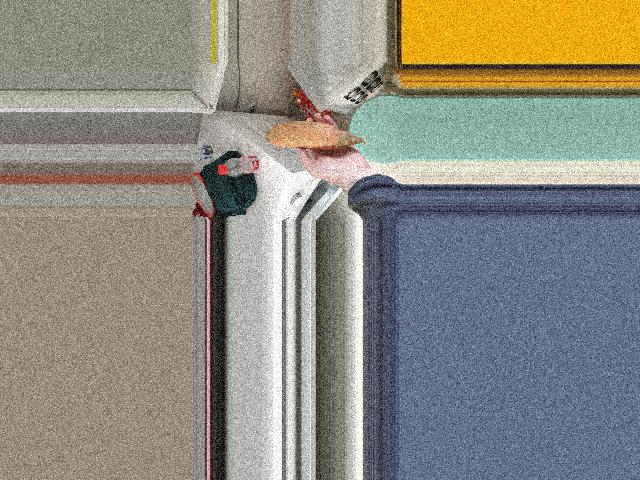sweet_potato: (257, 122, 344, 155)
